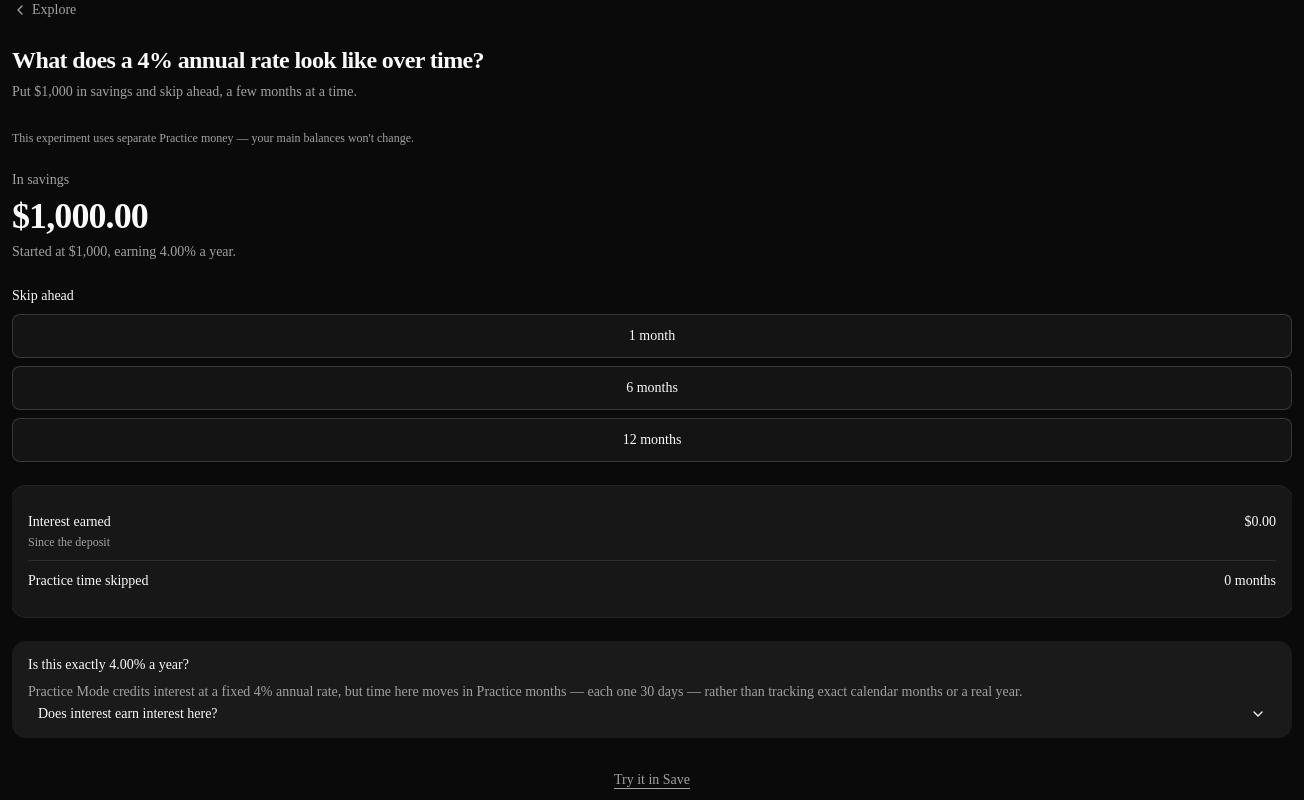
Test: YieldExperiment › reset restores the $1,000 starting balance
Click the button "12 months". click: (652, 440)
box: [12,418,1292,462]
(page scrolled)
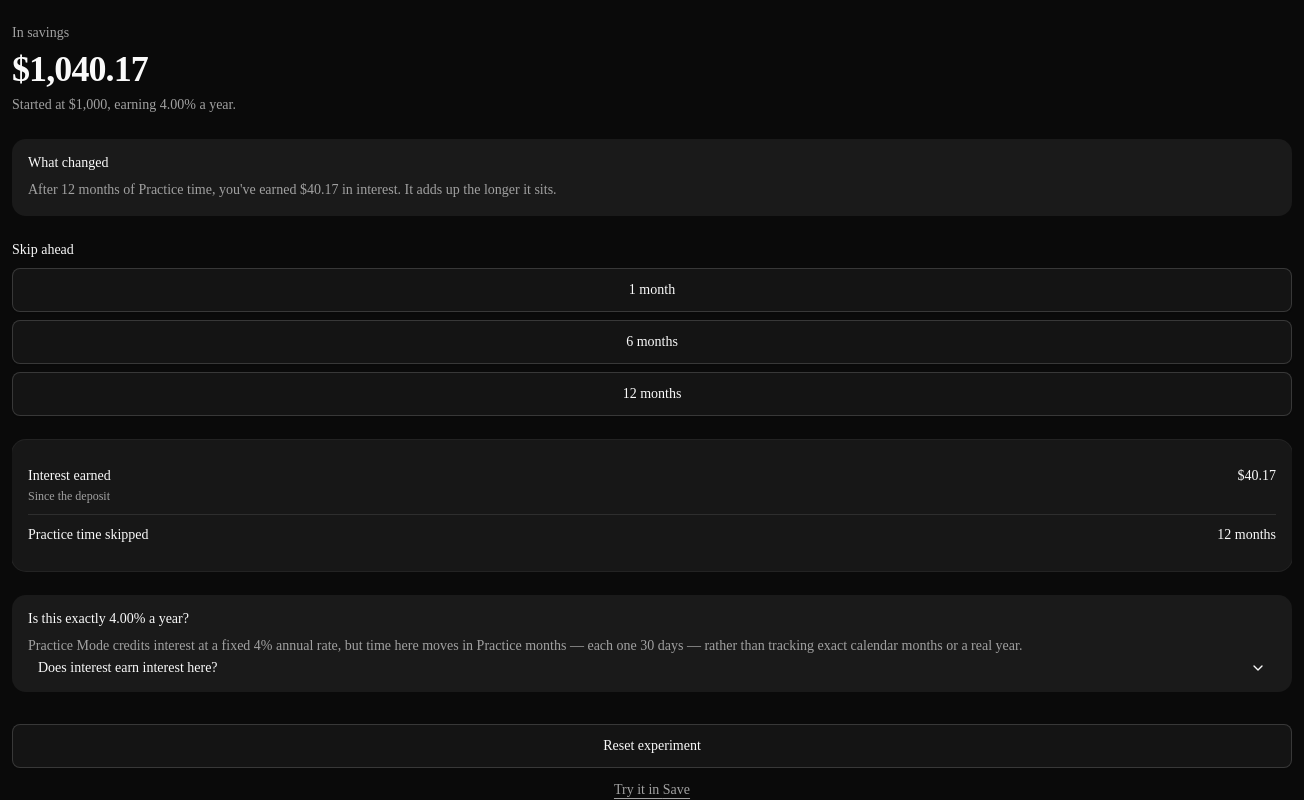
Click the button "Reset experiment". click: (652, 746)
box: [12,724,1292,768]
(page scrolled)
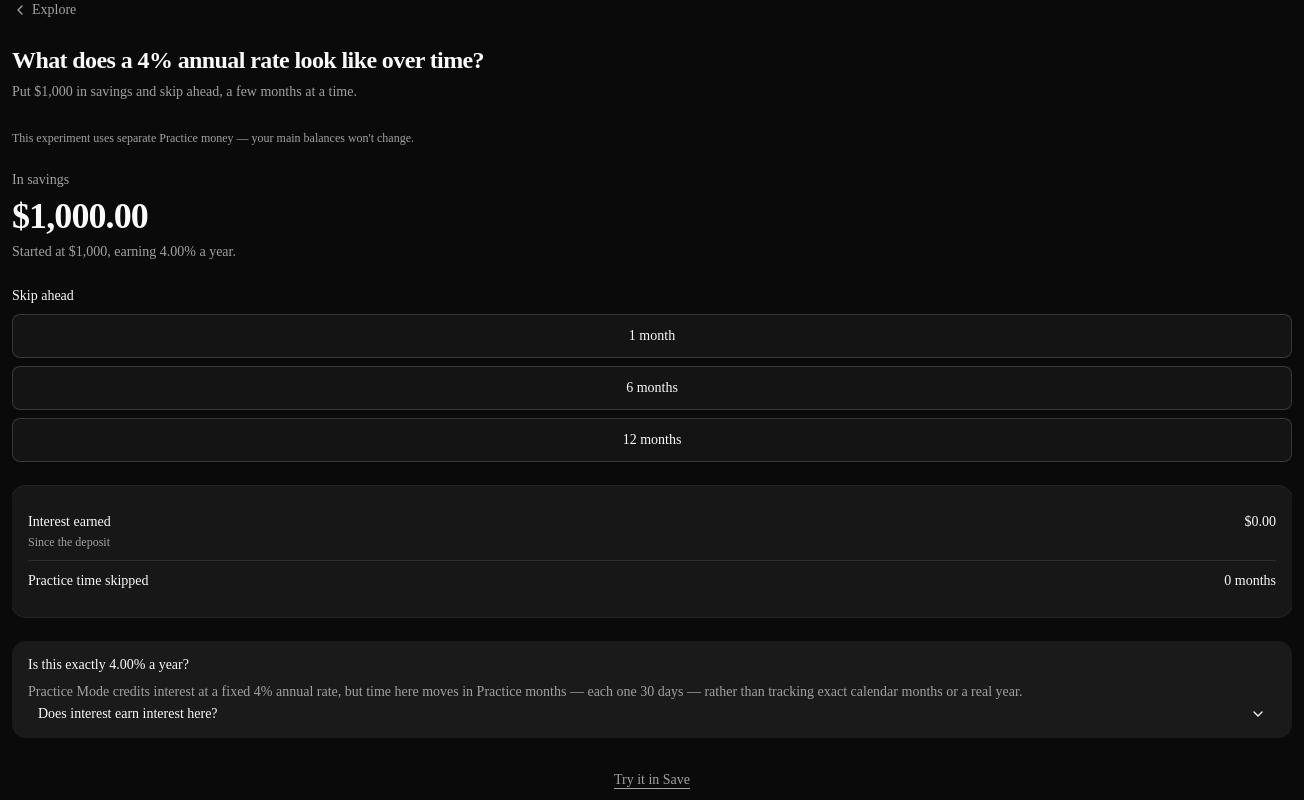
Check: the text "$1,000.00" is shown, box [12,196,148,236]
Check: the text "0 months" is shown, box [1224,571,1276,591]
Check: the text "What changed" is gone
